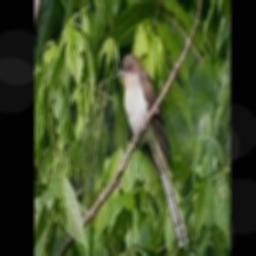Cuckoo: (116, 53, 189, 249)
